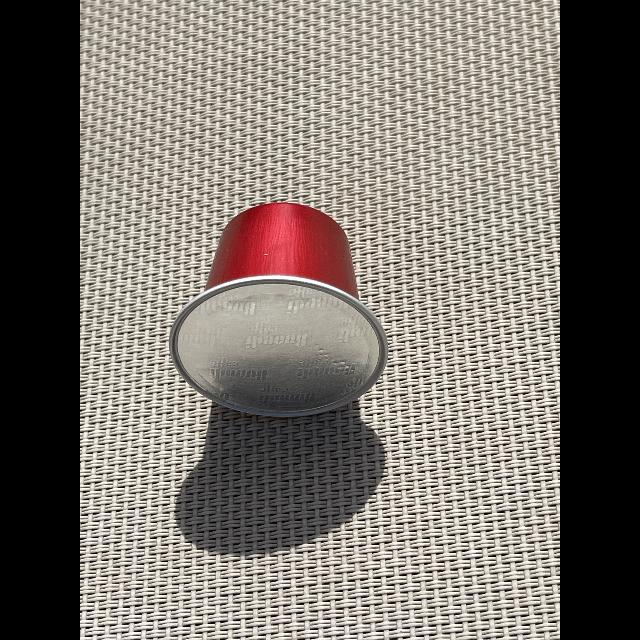intact_capsule: (147, 184, 417, 440)
